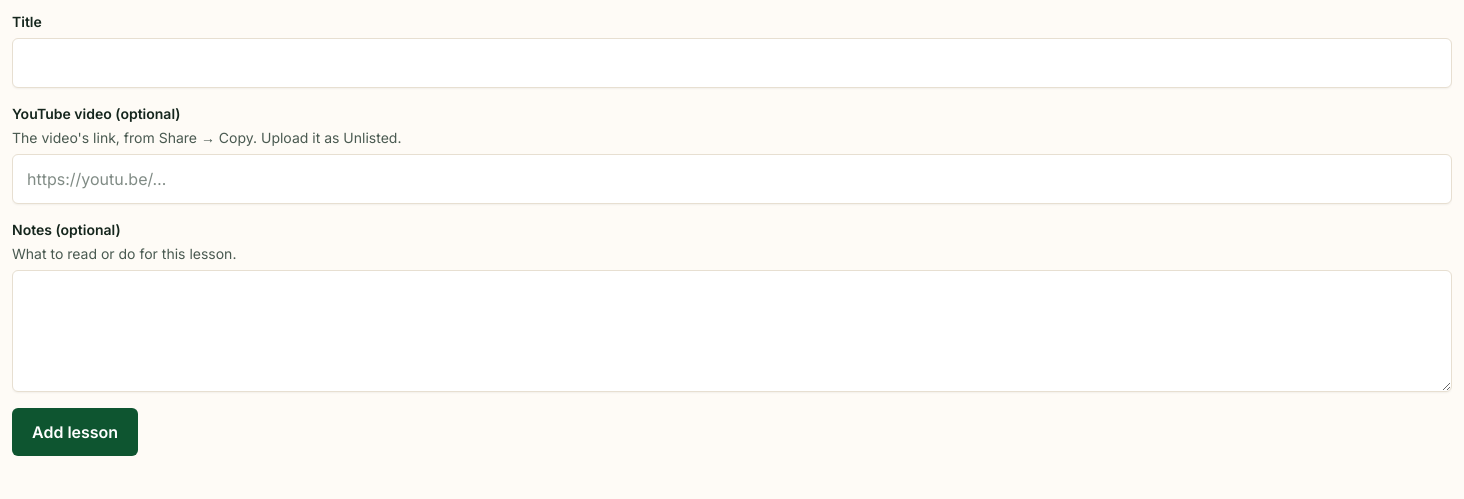
Scenario: LessonForm › a link that is not YouTube is refused with a clear message, and nothing is sent
This screenshot has width=1464, height=499.
Type "Week 1" into the field labelled "Title" at (732, 63), box [12, 38, 1452, 88]
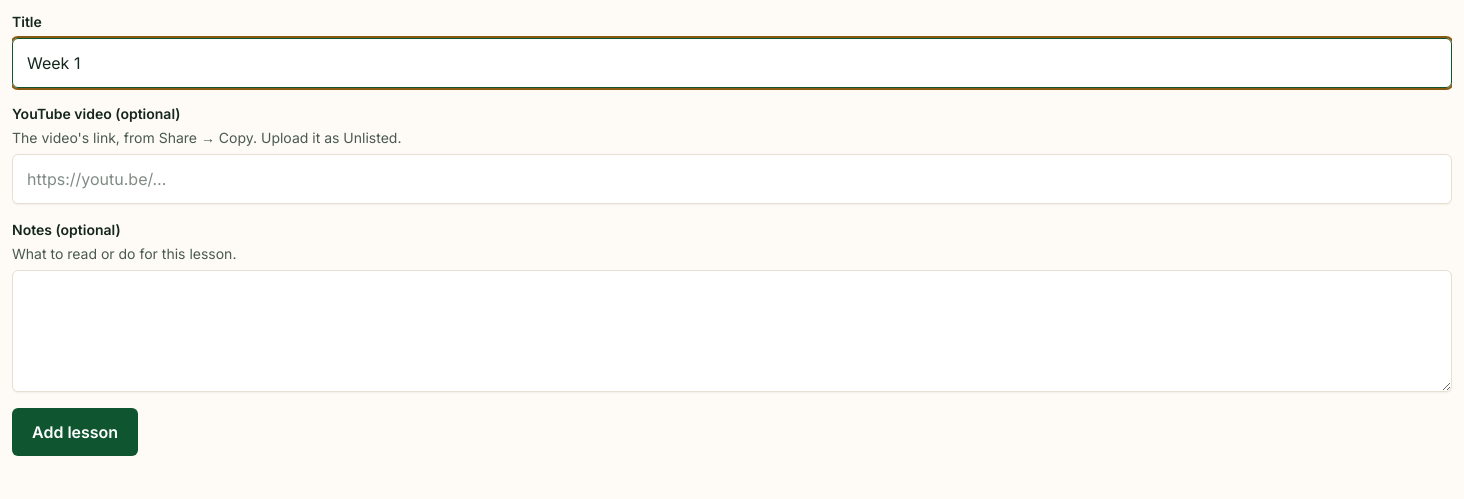
Type "https://vimeo.com/123" into the field labelled "YouTube video (optional)" at (732, 179), box [12, 154, 1452, 204]
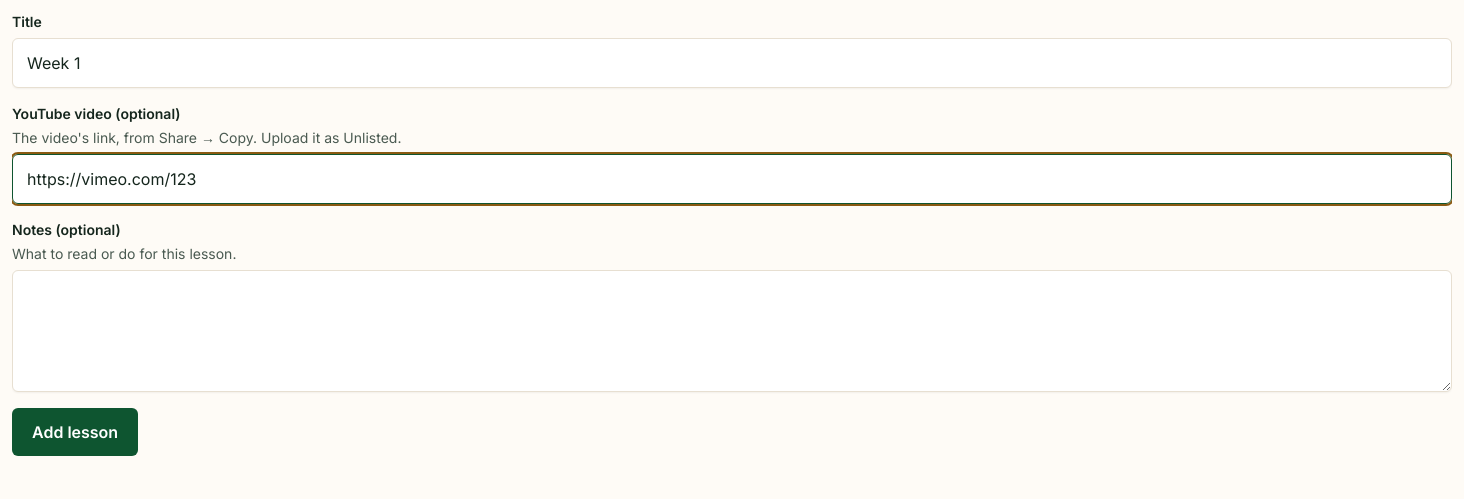
Click the button "Add lesson" at (75, 432), box [12, 408, 138, 456]
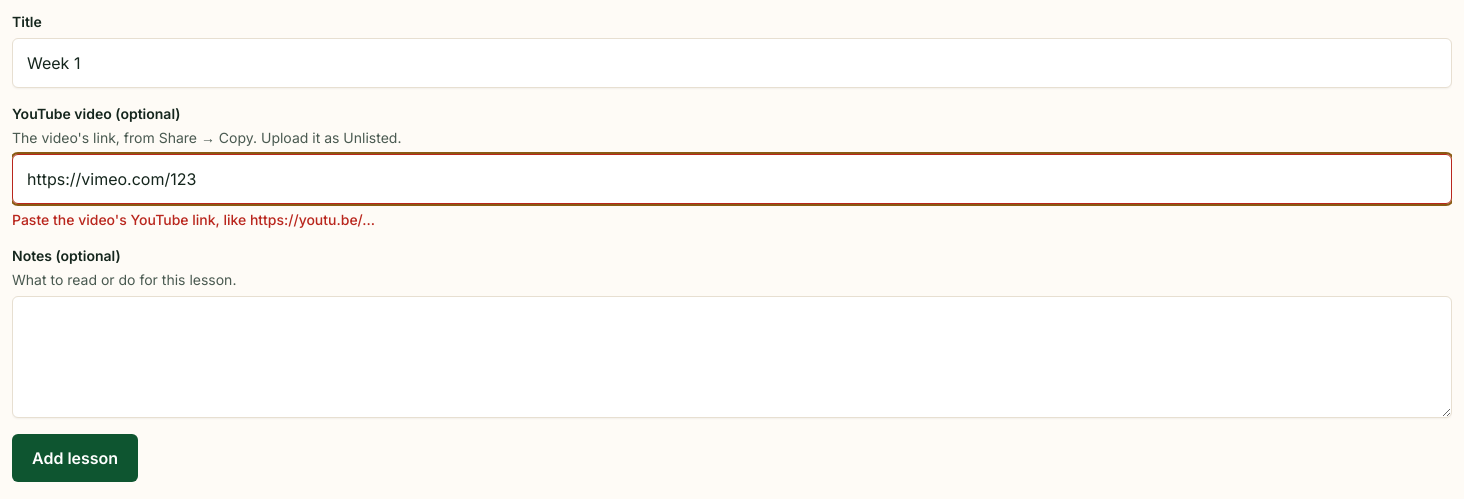
Expected: the text "Paste the video's YouTube link, like https://youtu.be/…" is shown, [12, 211, 375, 228]
